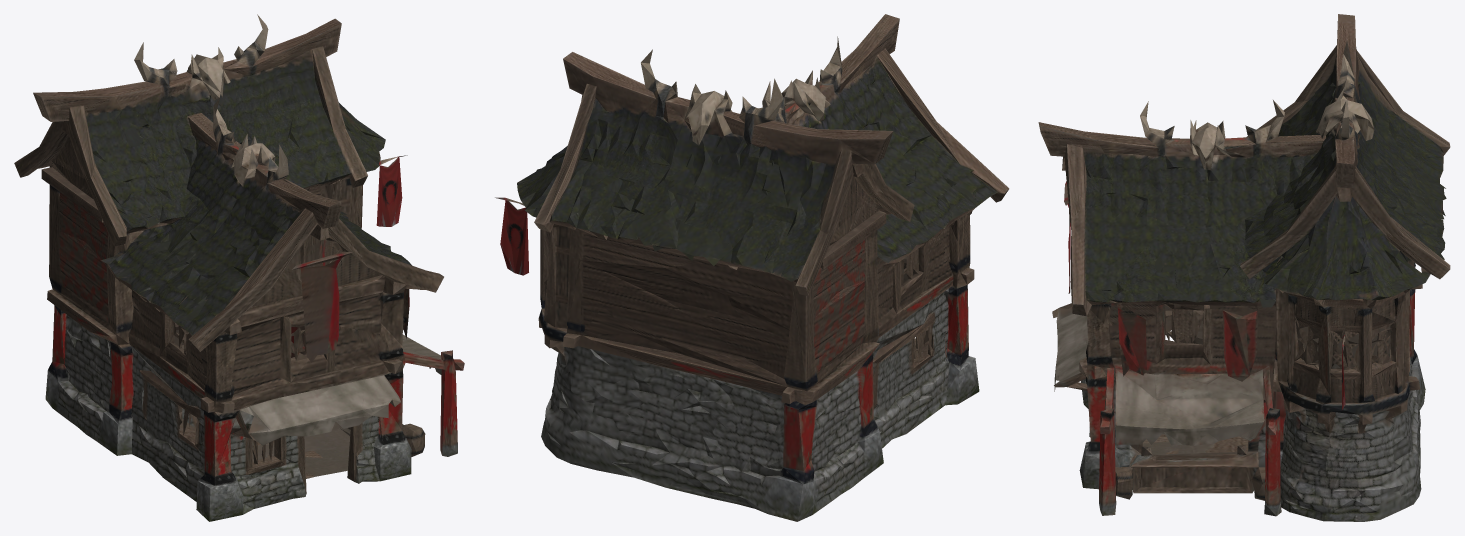
Rendered from house_two_b.glb.
3 views of the same model, side by side, from view 1: azimuth 30°, elevation 25°; view 2: azimuth 150°, elevation 25°; view 3: azimuth 270°, elevation 25° (orthographic). The views are drawn at different scales.
Parts seen in each view (by area): view 1: house_two_b; view 2: house_two_b; view 3: house_two_b.
Boxes of the visible parts, x1,y1,x2,y2 form: house_two_b: (14, 14, 464, 521); house_two_b: (495, 14, 1009, 521); house_two_b: (1038, 14, 1450, 521).
Size of the model in its own units: 10.44 by 10 by 9.84.
Materials: 1 (1 with a texture image).
